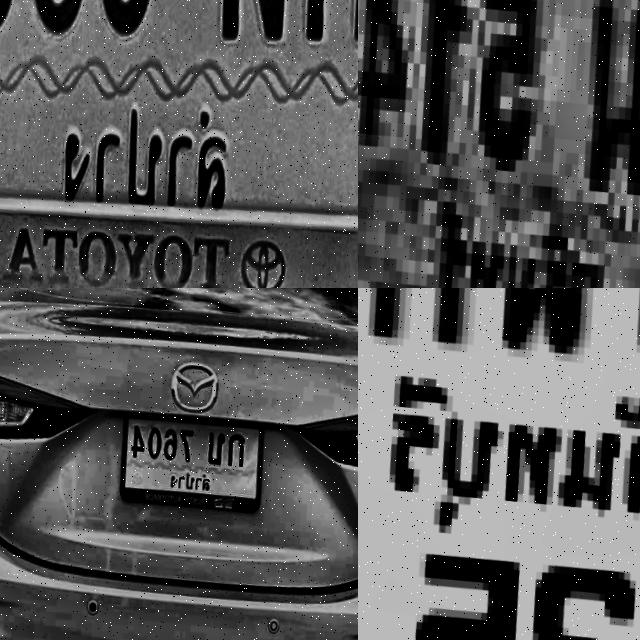license-plate: (0, 0, 358, 288), (358, 288, 640, 640), (358, 0, 640, 288), (107, 405, 265, 520)
